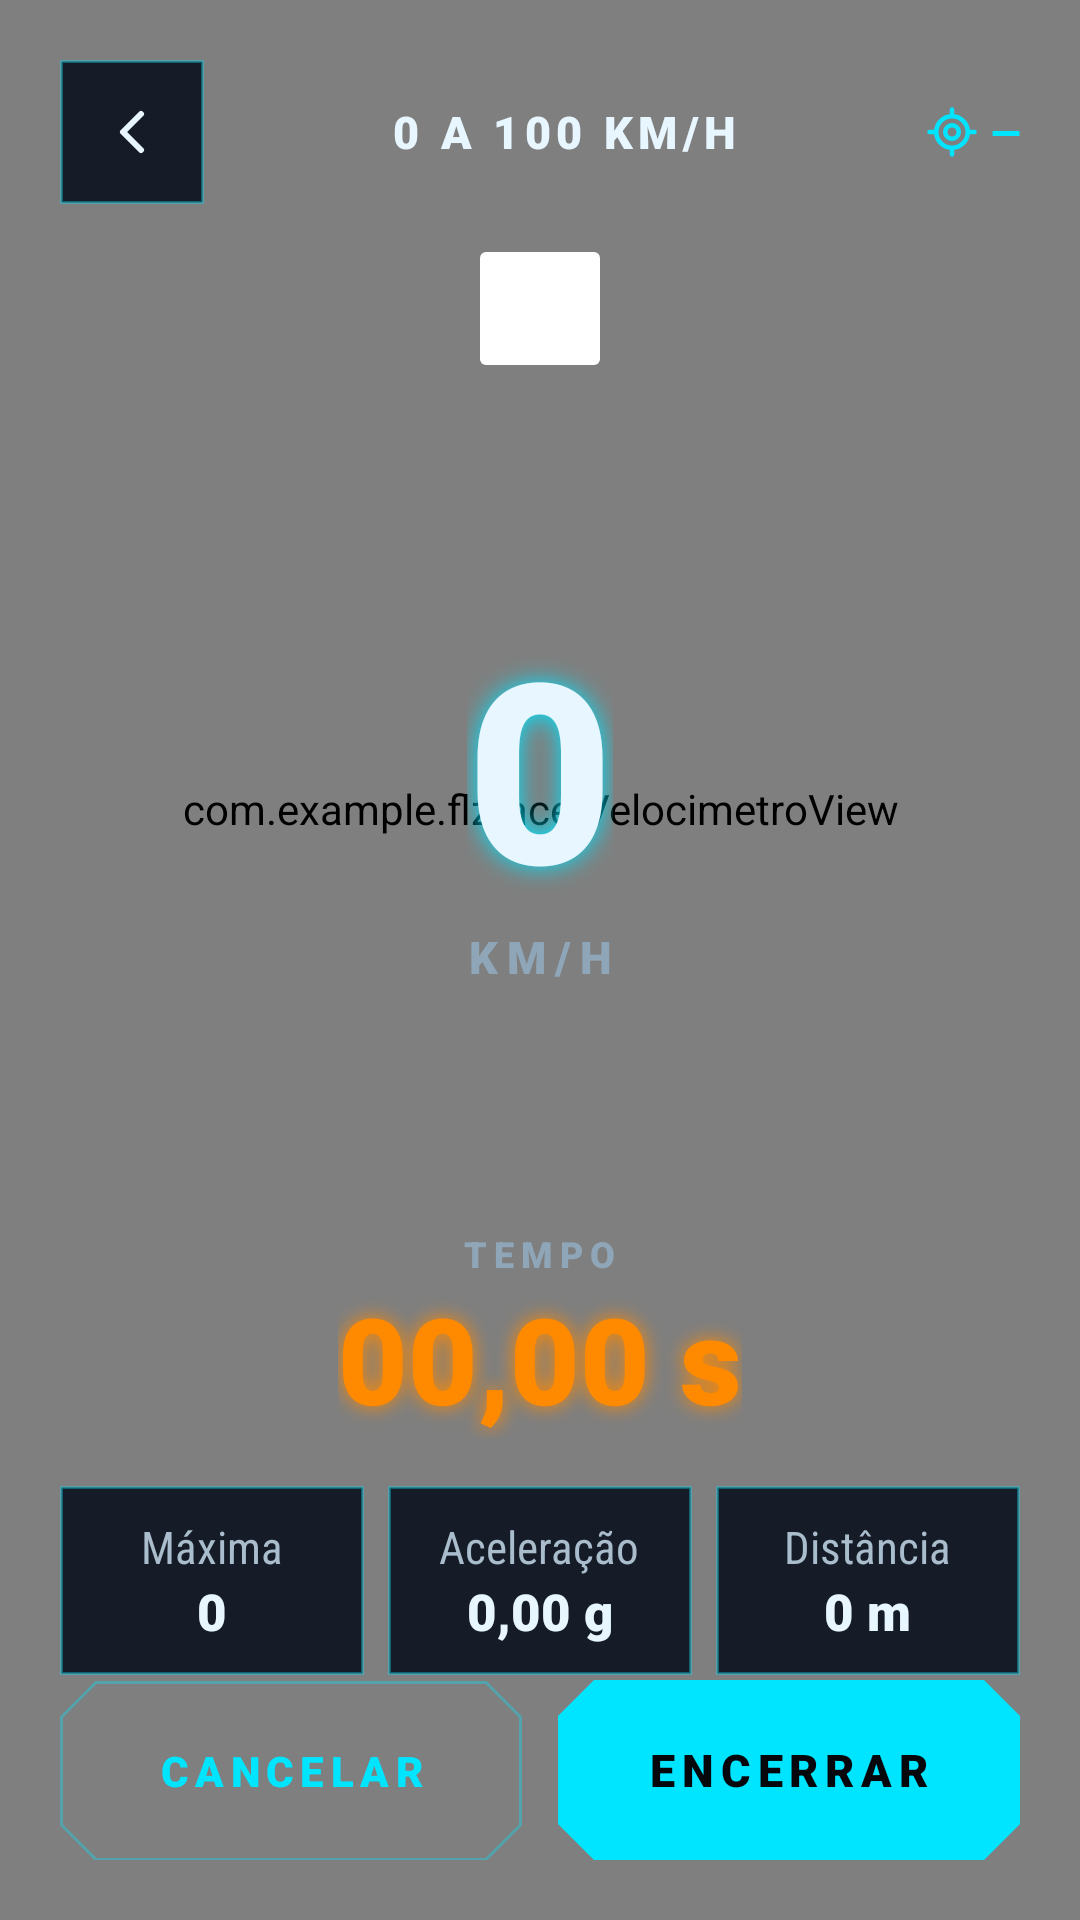

Icons on this 1080x1920 Android screen, each with its box as bbox=(x1, y1, x2, y2):
Voltar: bbox=(60, 60, 204, 204)
